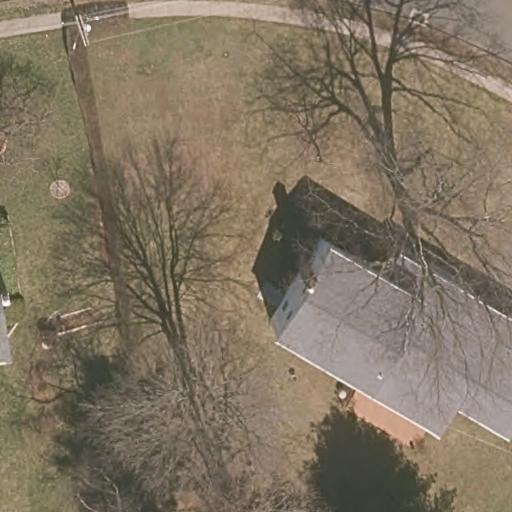DT: (61, 13, 94, 50)
